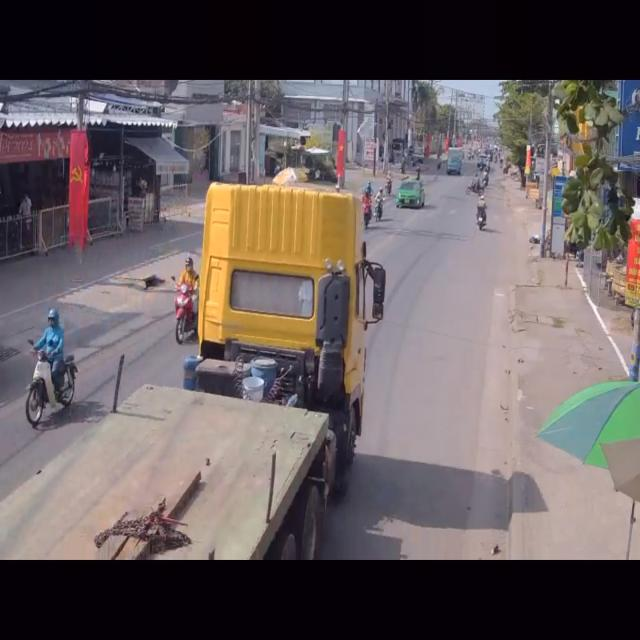car: (398, 177, 425, 211)
motorbike: (27, 306, 78, 430), (174, 254, 198, 343), (476, 192, 489, 231), (362, 187, 372, 230), (375, 189, 385, 223)
truck: (0, 181, 381, 558)
